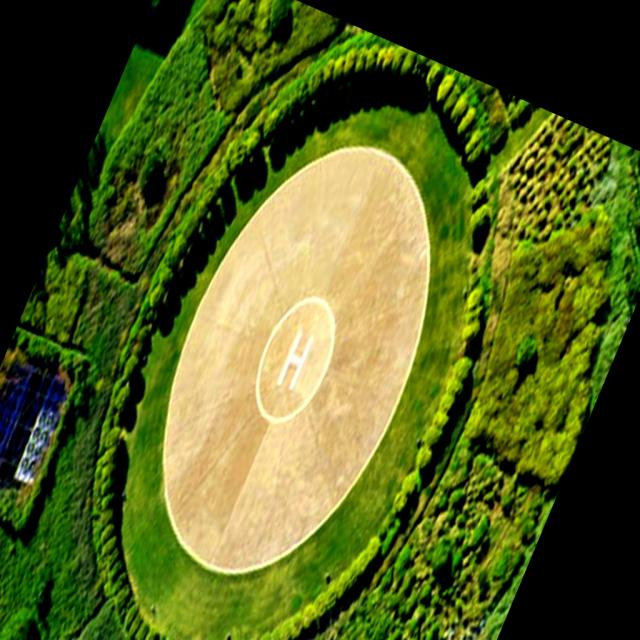helipad: (249, 291, 341, 428)
